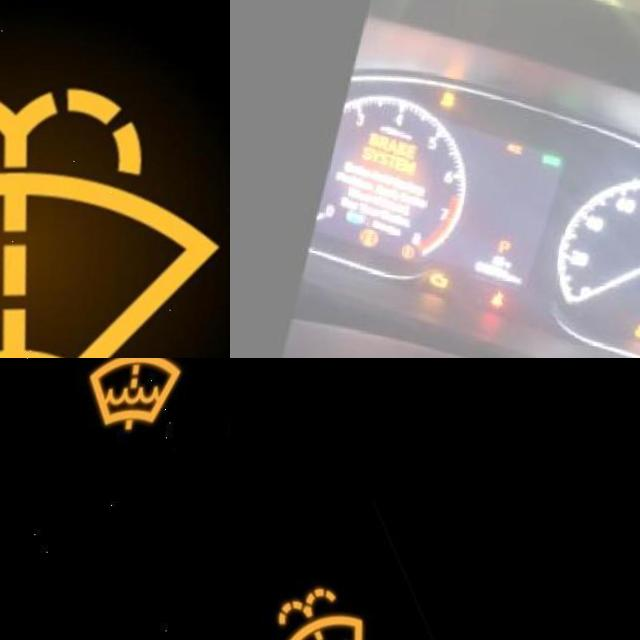Washer Fluid: (0, 71, 230, 358), (89, 358, 193, 430), (275, 579, 377, 640)
